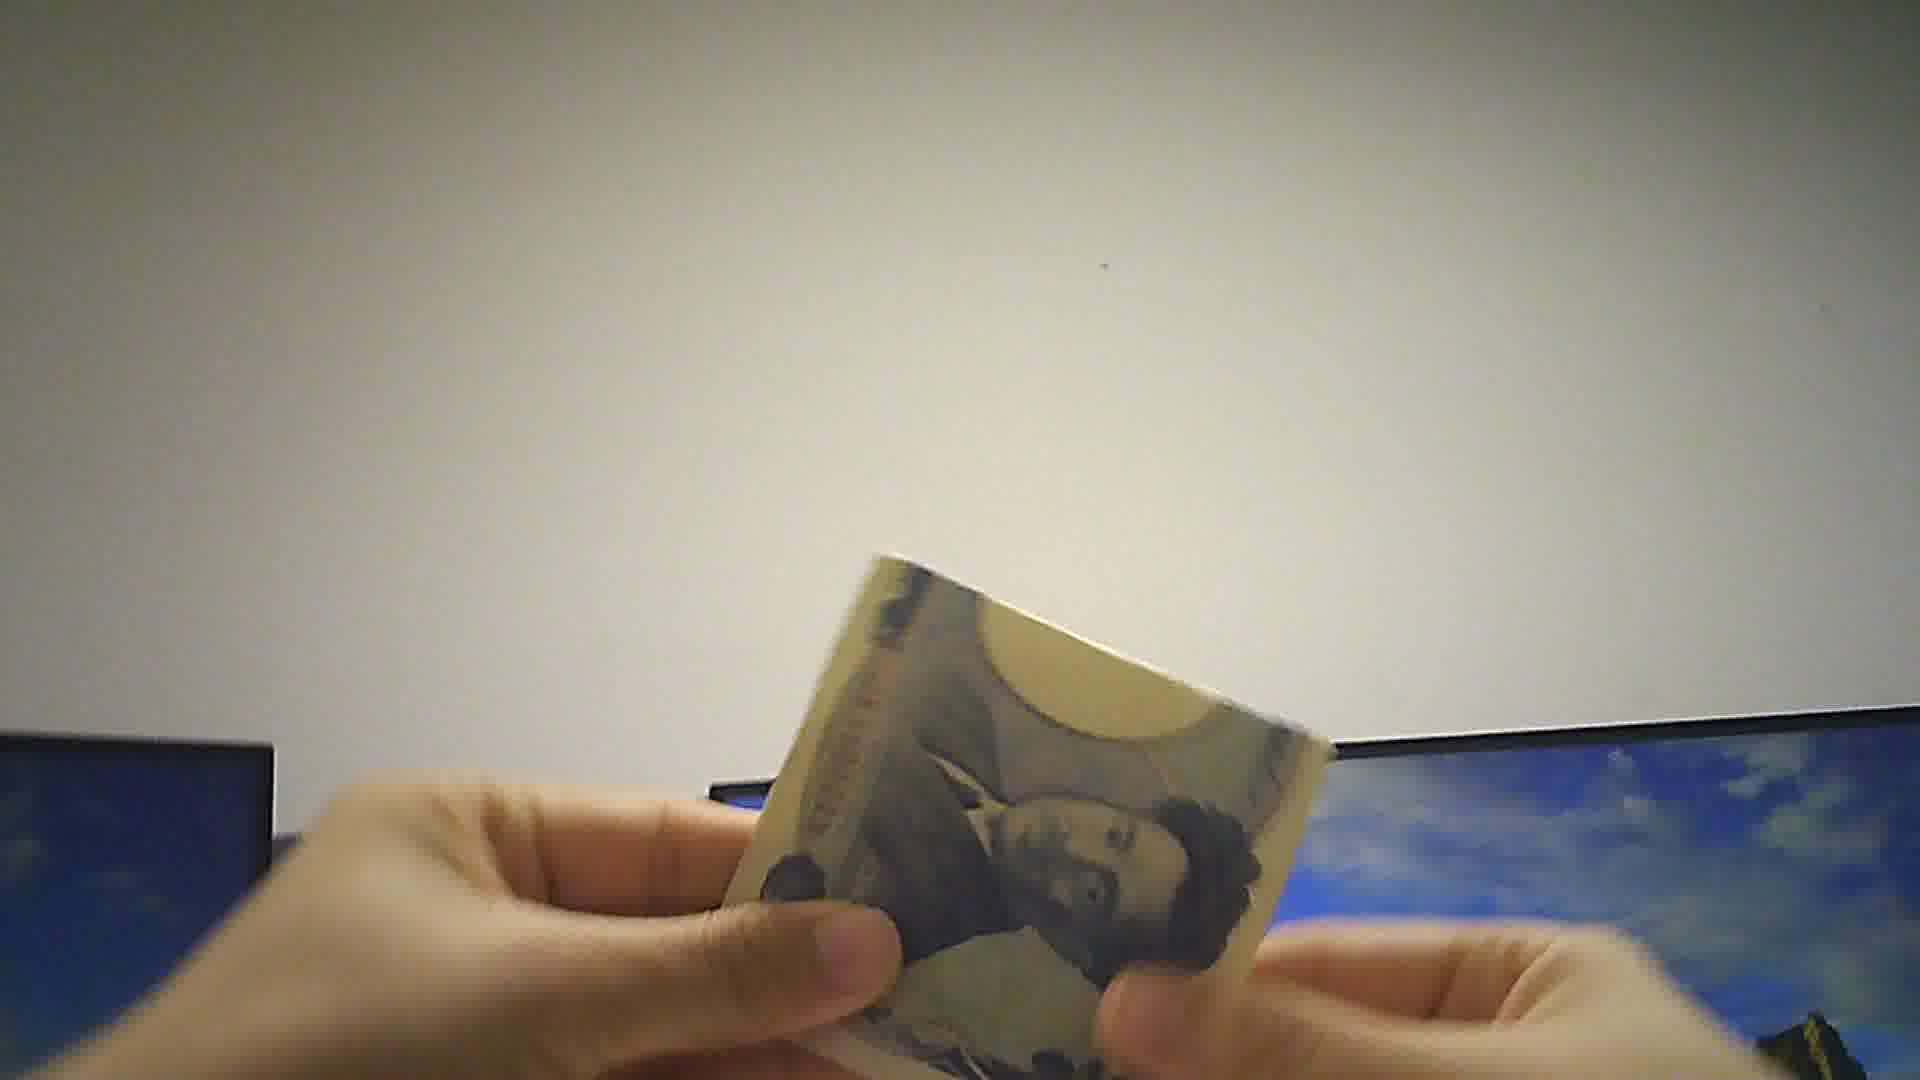1,000 Yen: (713, 537, 1323, 1072)
